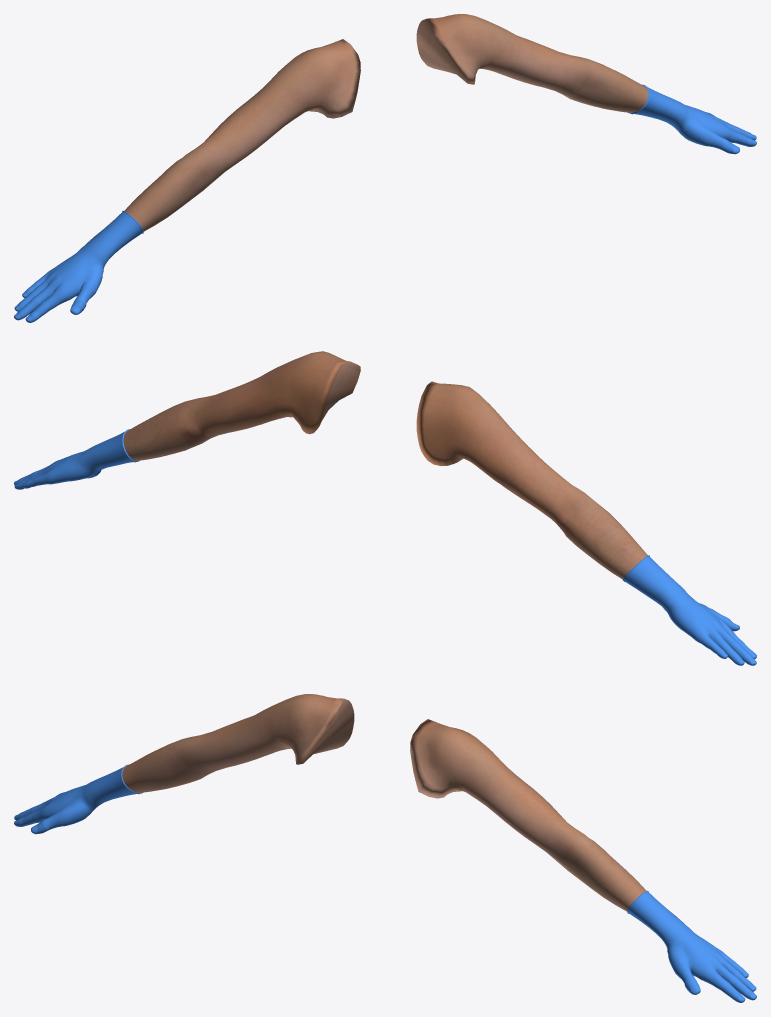
File: Taydieuduong.fbx
3 views of the same model, one above another, from view 1: azimuth 30°, elevation 25°; view 2: azimuth 150°, elevation 25°; view 3: azimuth 330°, elevation 25° (orthographic).
Visible parts, largest first — view 1: Taydieuduong_R, Taydieuduong_L; view 2: Taydieuduong_R, Taydieuduong_L; view 3: Taydieuduong_L, Taydieuduong_R.
Boxes of the visible parts, box(x1,y1,x2,y2) form: Taydieuduong_R: box(14, 39, 360, 322); Taydieuduong_L: box(416, 14, 756, 154); Taydieuduong_R: box(416, 381, 756, 665); Taydieuduong_L: box(14, 351, 360, 489); Taydieuduong_L: box(410, 719, 756, 1002); Taydieuduong_R: box(14, 694, 354, 834).
Size of the model in its own units: 141 by 36.62 by 13.08.
Materials: 1 (1 with a texture image).
